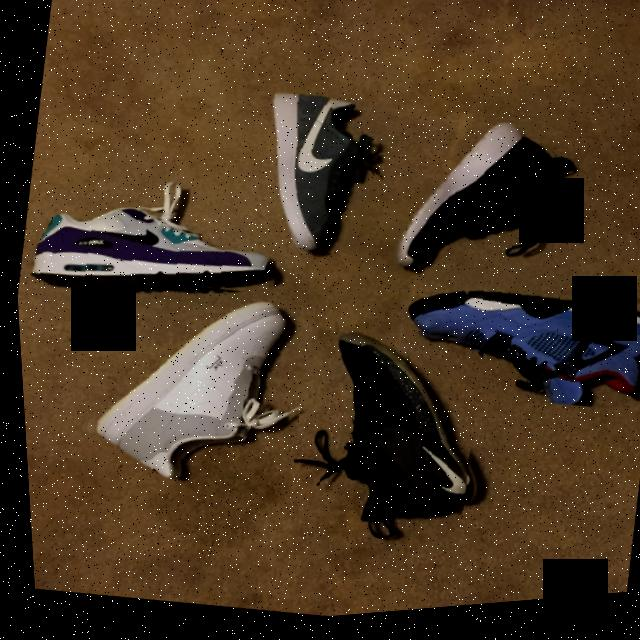shoe: (56, 265, 318, 525), (7, 141, 292, 340), (294, 315, 492, 582), (374, 102, 589, 312), (392, 257, 640, 438), (242, 73, 392, 270)
